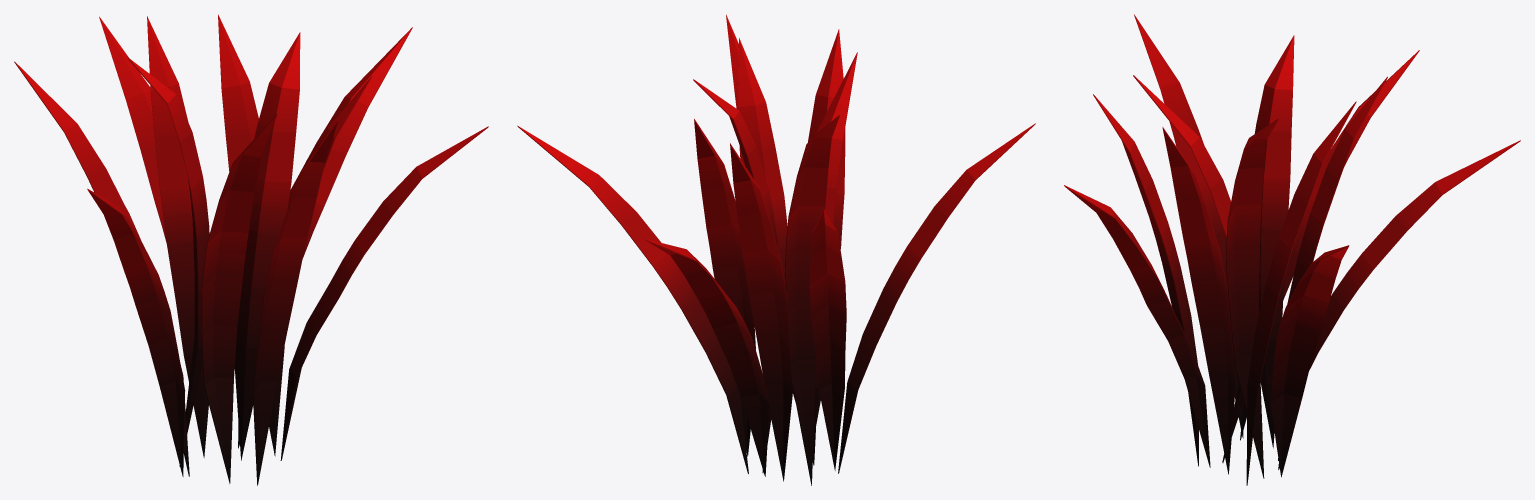
File: teste_tres.fbx
The picture shows the model from 3 angles, left to right: view 1: azimuth 30°, elevation 25°; view 2: azimuth 150°, elevation 25°; view 3: azimuth 270°, elevation 25°; orthographic projection. The views are drawn at different scales.
Parts seen in each view (by area): view 1: Plane.013, Plane.010, Plane.007, Plane.019, Plane.017, Plane.020, Plane.008, Plane.018, Plane.015, Plane.011, Plane.016, Plane.014; view 2: Plane.007, Plane.008, Plane.016, Plane.015, Plane.011, Plane.017, Plane.018, Plane.014, Plane.019, Plane.010, Plane.013, Plane.020; view 3: Plane.014, Plane.013, Plane.008, Plane.015, Plane.020, Plane.018, Plane.011, Plane.019, Plane.017, Plane.007, Plane.010, Plane.016.
Part boxes in pixels (<box>): Plane.013: <box>234,32,300,460</box>; Plane.010: <box>201,114,276,483</box>; Plane.007: <box>147,16,208,457</box>; Plane.019: <box>252,119,338,485</box>; Plane.017: <box>87,188,185,476</box>; Plane.020: <box>280,126,488,460</box>; Plane.008: <box>128,58,209,466</box>; Plane.018: <box>218,14,284,456</box>; Plane.015: <box>238,27,412,448</box>; Plane.011: <box>99,16,166,242</box>; Plane.016: <box>14,61,189,476</box>; Plane.014: <box>322,76,372,172</box>; Plane.007: <box>730,143,792,481</box>; Plane.008: <box>785,115,839,485</box>; Plane.016: <box>809,209,846,470</box>; Plane.015: <box>517,125,748,473</box>; Plane.011: <box>644,239,769,476</box>; Plane.017: <box>838,123,1035,473</box>; Plane.018: <box>694,119,755,456</box>; Plane.014: <box>737,38,787,286</box>; Plane.019: <box>808,29,845,423</box>; Plane.010: <box>792,52,857,465</box>; Plane.013: <box>693,79,778,473</box>; Plane.020: <box>726,14,738,108</box>; Plane.014: <box>1162,127,1235,474</box>; Plane.013: <box>1226,119,1278,478</box>; Plane.008: <box>1254,35,1294,448</box>; Plane.015: <box>1270,245,1349,477</box>; Plane.020: <box>1064,185,1210,467</box>; Plane.018: <box>1246,101,1356,485</box>; Plane.011: <box>1278,140,1520,469</box>; Plane.019: <box>1093,94,1198,466</box>; Plane.017: <box>1134,14,1243,438</box>; Plane.007: <box>1278,76,1387,460</box>; Plane.010: <box>1133,75,1243,462</box>; Plane.016: <box>1240,50,1419,440</box>.
Size of the model in its own units: 614 by 557 by 578.
